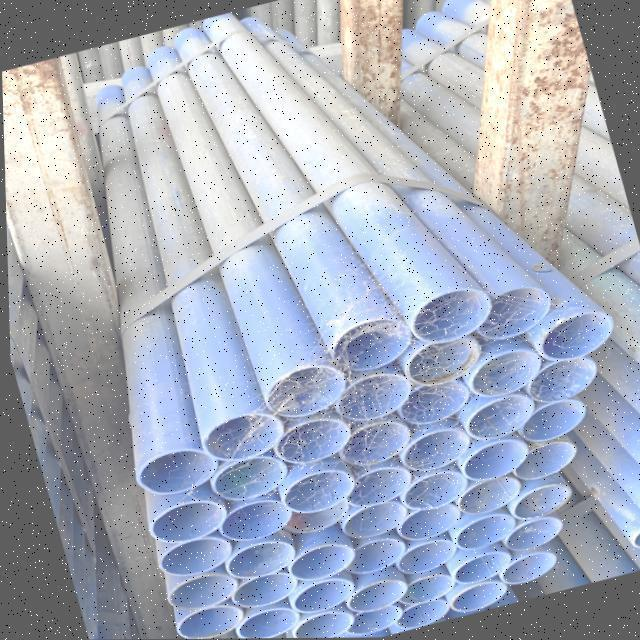pipe: (326, 318, 411, 377), (260, 365, 340, 421), (407, 290, 487, 345), (332, 416, 409, 473), (501, 394, 584, 445), (469, 287, 547, 341), (198, 412, 277, 465), (397, 418, 467, 477), (516, 354, 594, 406), (384, 376, 468, 424), (333, 371, 411, 422), (207, 455, 283, 507), (401, 337, 477, 389), (131, 448, 215, 494), (534, 310, 608, 362), (214, 492, 290, 542), (466, 347, 537, 400), (149, 533, 230, 579), (271, 416, 345, 466), (500, 433, 575, 482), (141, 498, 222, 543), (458, 393, 532, 442), (278, 466, 350, 514), (339, 457, 408, 507), (453, 436, 524, 484), (328, 534, 404, 577), (394, 465, 463, 511), (216, 538, 293, 579), (219, 570, 302, 608), (335, 498, 407, 541), (448, 474, 518, 518), (495, 513, 560, 559), (387, 503, 463, 541), (503, 477, 566, 522), (389, 532, 452, 576), (164, 576, 228, 618), (449, 510, 512, 552), (168, 601, 237, 639), (334, 575, 403, 613), (283, 542, 348, 582), (391, 570, 449, 611), (277, 500, 349, 532), (229, 603, 292, 639), (447, 547, 508, 584), (287, 577, 346, 615), (441, 579, 503, 615), (493, 550, 552, 587), (284, 610, 347, 639), (337, 603, 392, 633), (391, 600, 440, 629), (626, 526, 640, 550)
